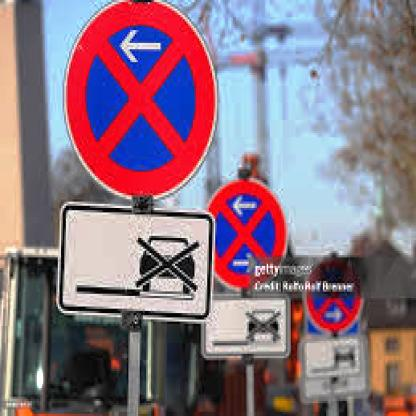No stopping: (59, 0, 213, 193), (200, 180, 286, 310)
